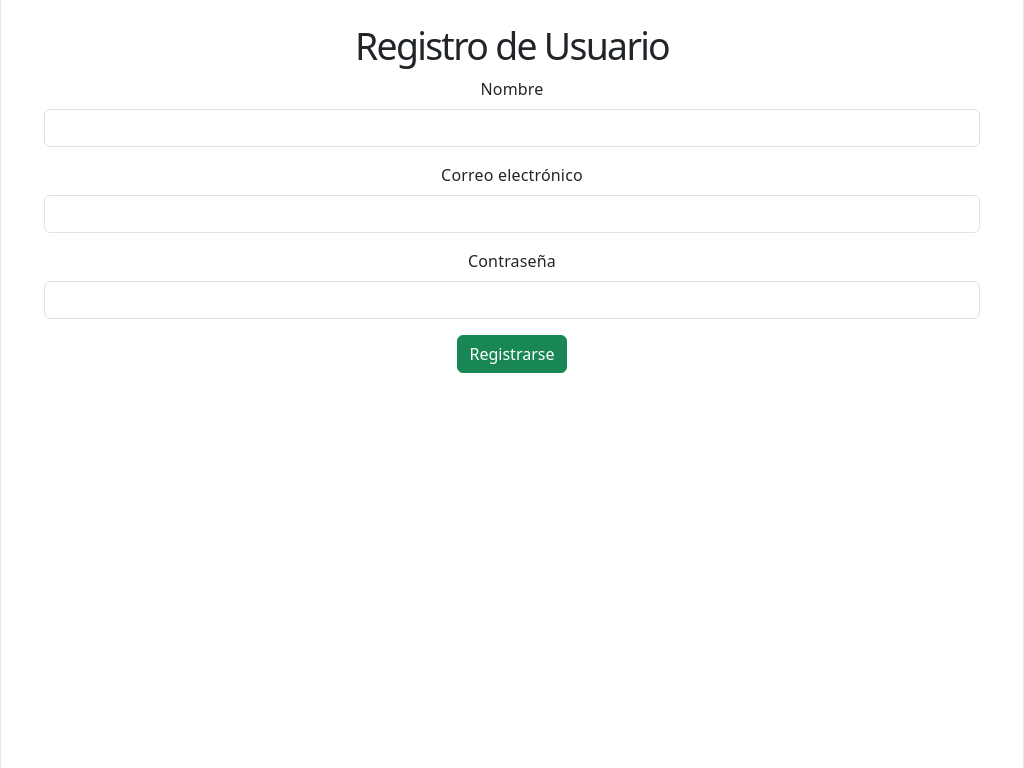
Test: Componente Registro › muestra error si la contraseña es muy corta
Type "Miguel" into the field labelled "Nombre".
click(512, 128); type("Miguel")  # box top-left (44, 109), bottom-right (980, 147)
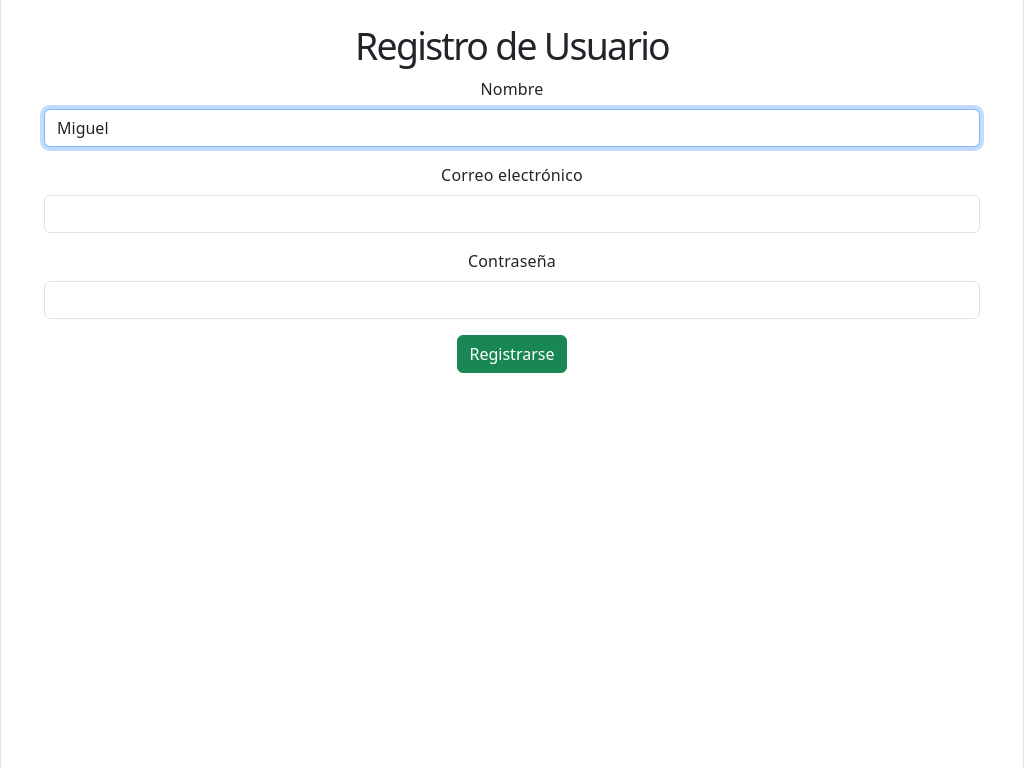
Type "miguel@correo.cl" into the field labelled "Correo electrónico".
click(512, 214); type("miguel@correo.cl")  # box top-left (44, 195), bottom-right (980, 233)
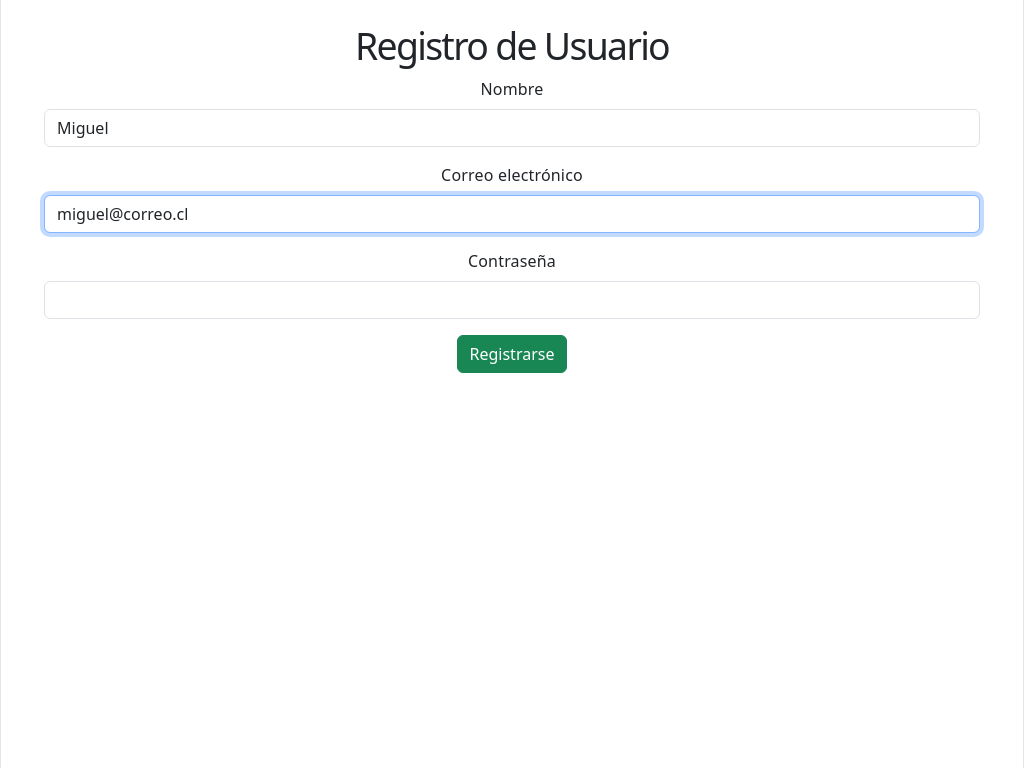
Type "123" into the password field labelled "Contraseña".
click(512, 300); type("123")  # box top-left (44, 281), bottom-right (980, 319)
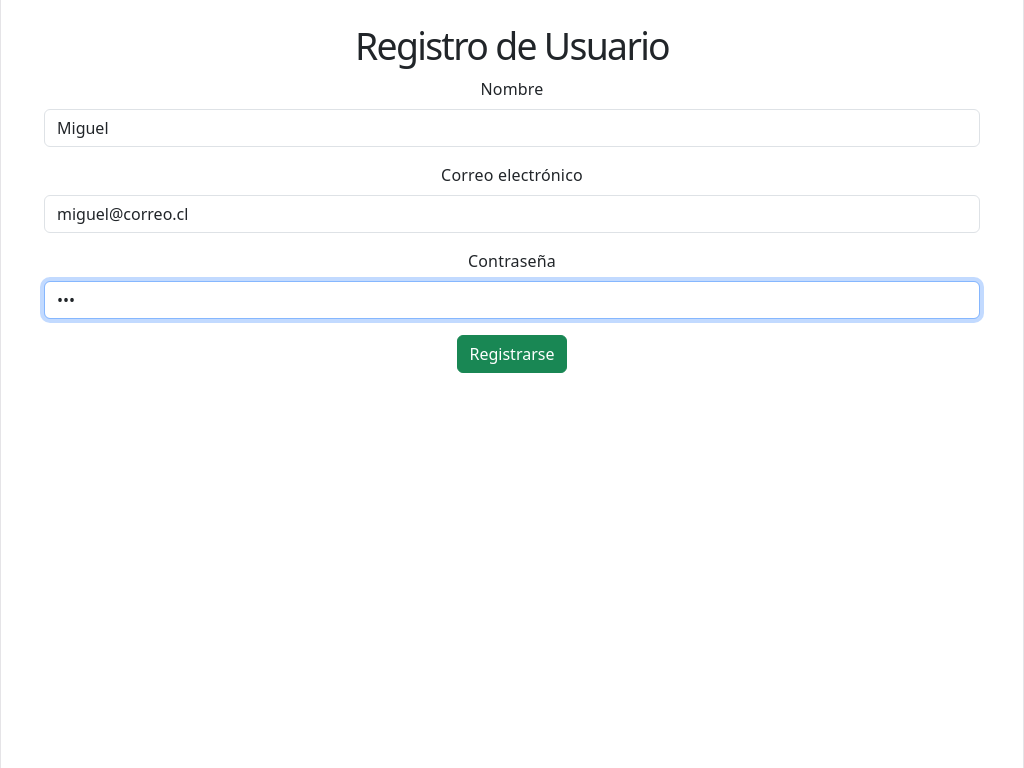
Click the button "Registrarse".
click(512, 354)  # box top-left (456, 335), bottom-right (568, 373)
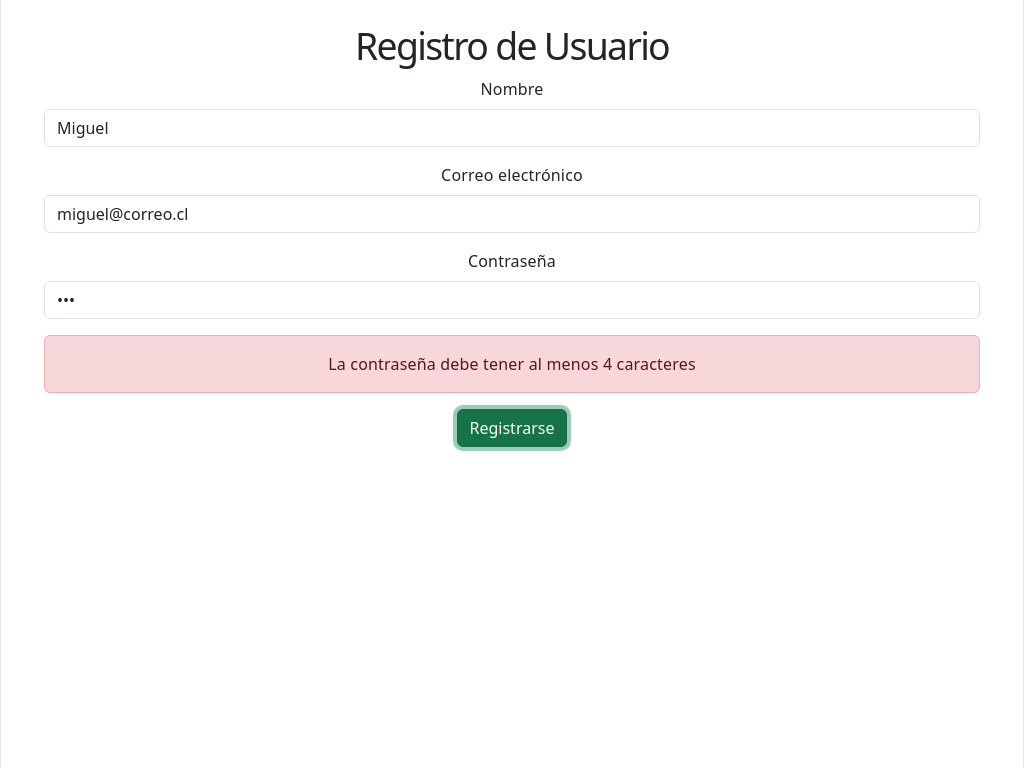
Now the text "La contraseña debe tener al menos 4 caracteres" is shown, box top-left (44, 335), bottom-right (980, 393)
